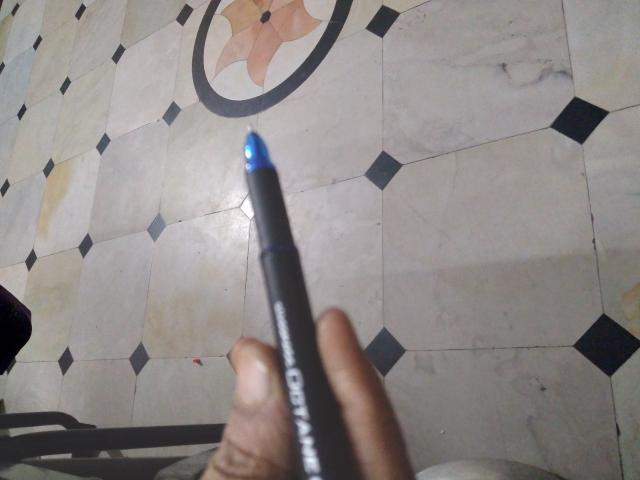PEN: (0, 191, 350, 386)
